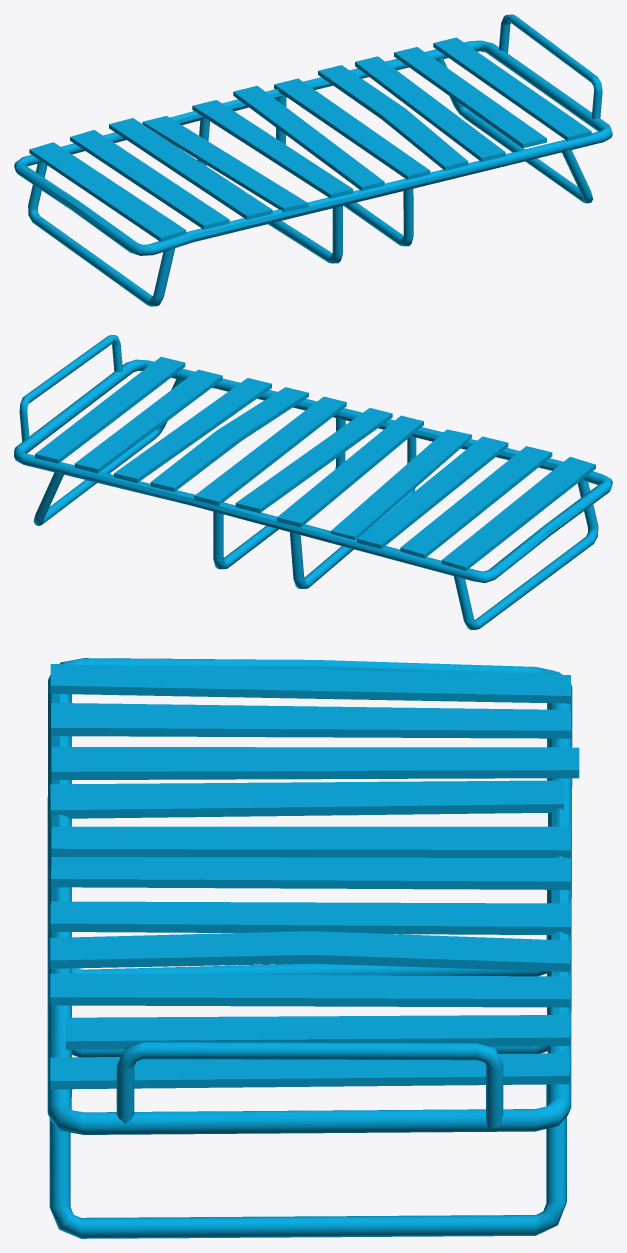
File: Folding_Bed_01_Break_Lod0.fbx
3 views of the same model, one above another, from view 1: azimuth 30°, elevation 25°; view 2: azimuth 150°, elevation 25°; view 3: azimuth 270°, elevation 25° (orthographic). The views are drawn at different scales.
Parts seen in each view (by area): view 1: Folding_Bed_01_Break_Lod0; view 2: Folding_Bed_01_Break_Lod0; view 3: Folding_Bed_01_Break_Lod0.
Part boxes in pixels (bbox=[...]): Folding_Bed_01_Break_Lod0: bbox=[14, 14, 612, 306]; Folding_Bed_01_Break_Lod0: bbox=[14, 335, 612, 629]; Folding_Bed_01_Break_Lod0: bbox=[47, 658, 579, 1238].
Size of the model in its own units: 211 by 45.33 by 99.82.
